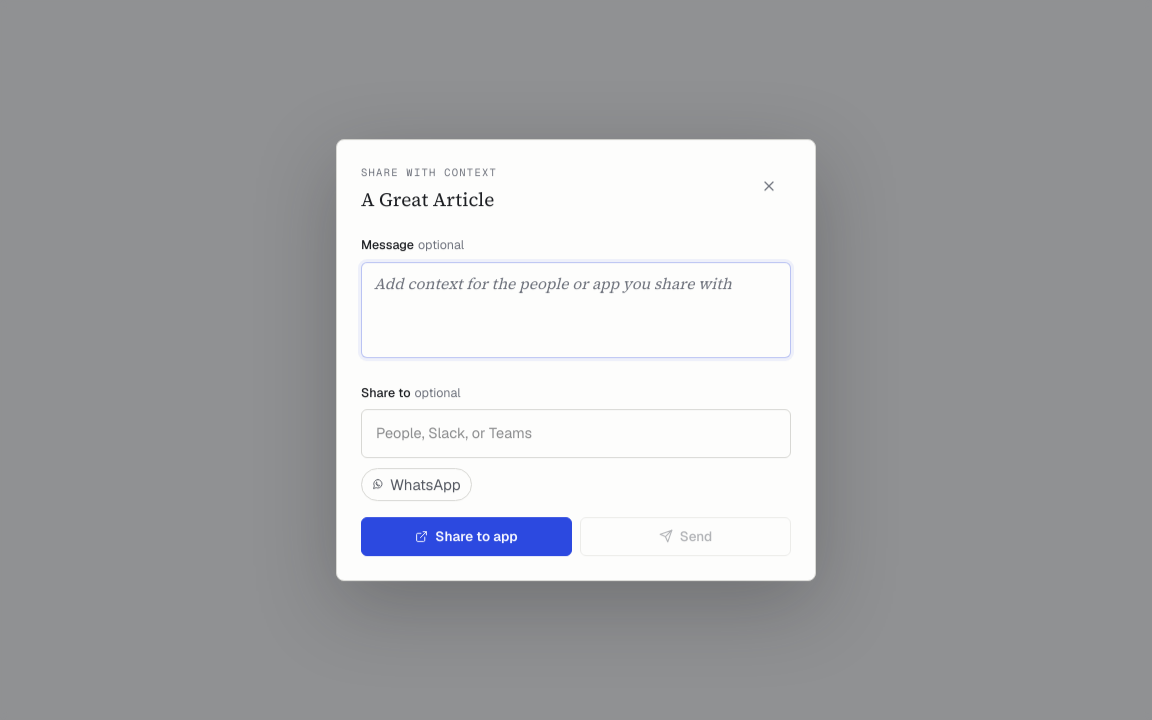
Test case: <ShareModal> › removes a recipient
Type "@bo" into the dropdown labelled "Share to". click: (576, 434)
box: [372,416,780,451]
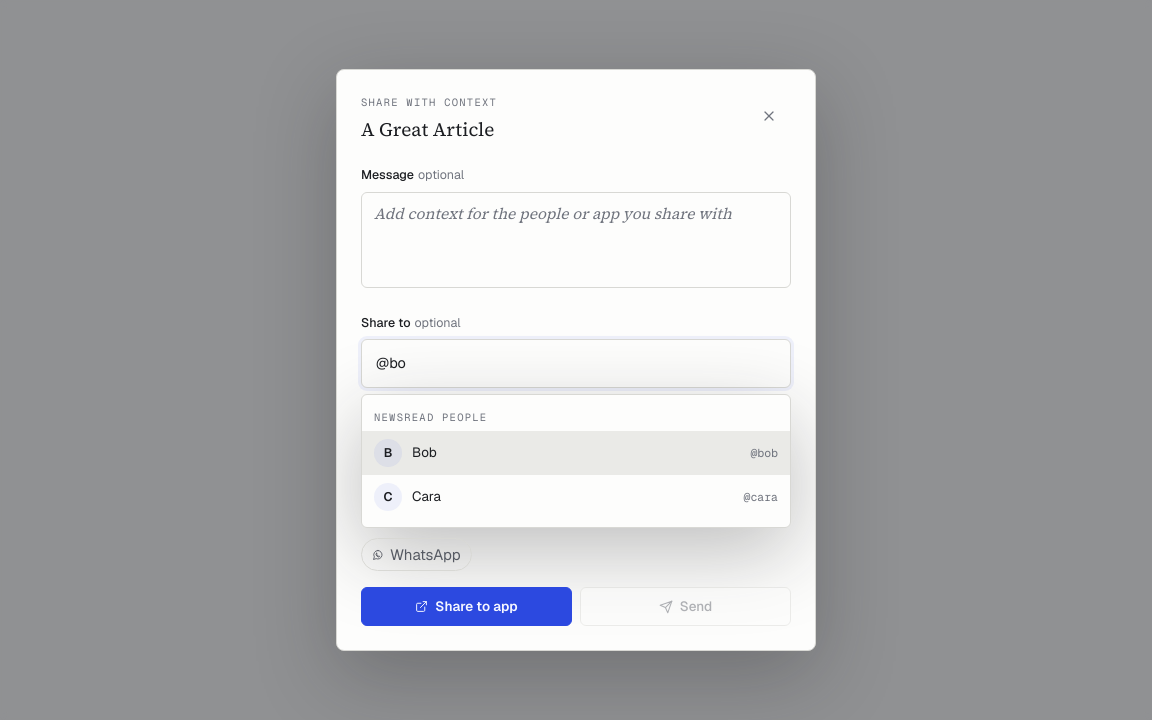
Click the text "Bob". click: (424, 452)
box: [412,443,437,461]
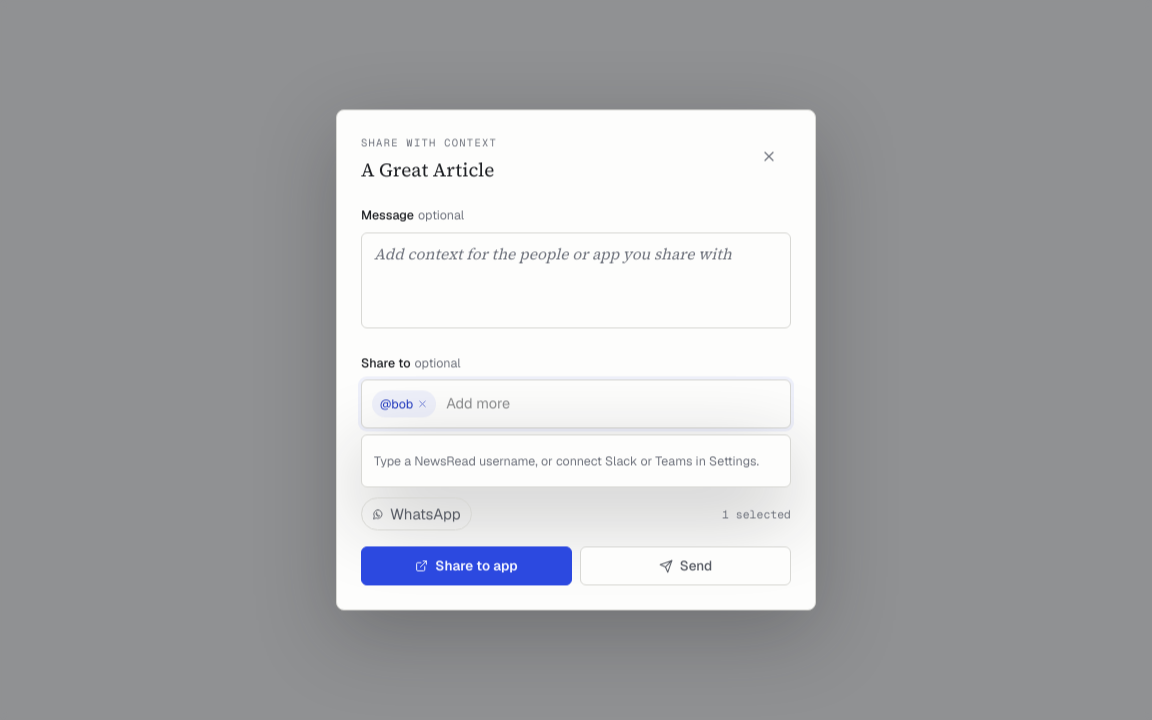
Click the button named "Remove @bob". click: (423, 404)
box: [417,398,428,409]
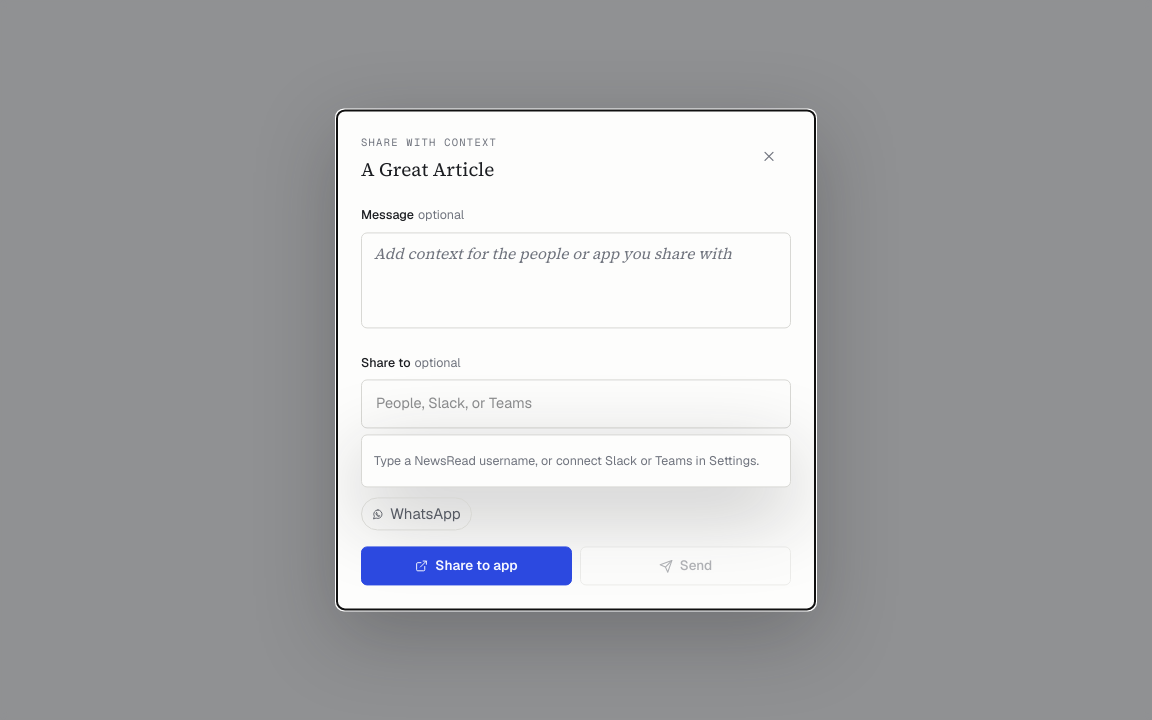
Expected: the text "@bob" is gone
Expected: the button "Send" is disabled, [580,547,791,586]
